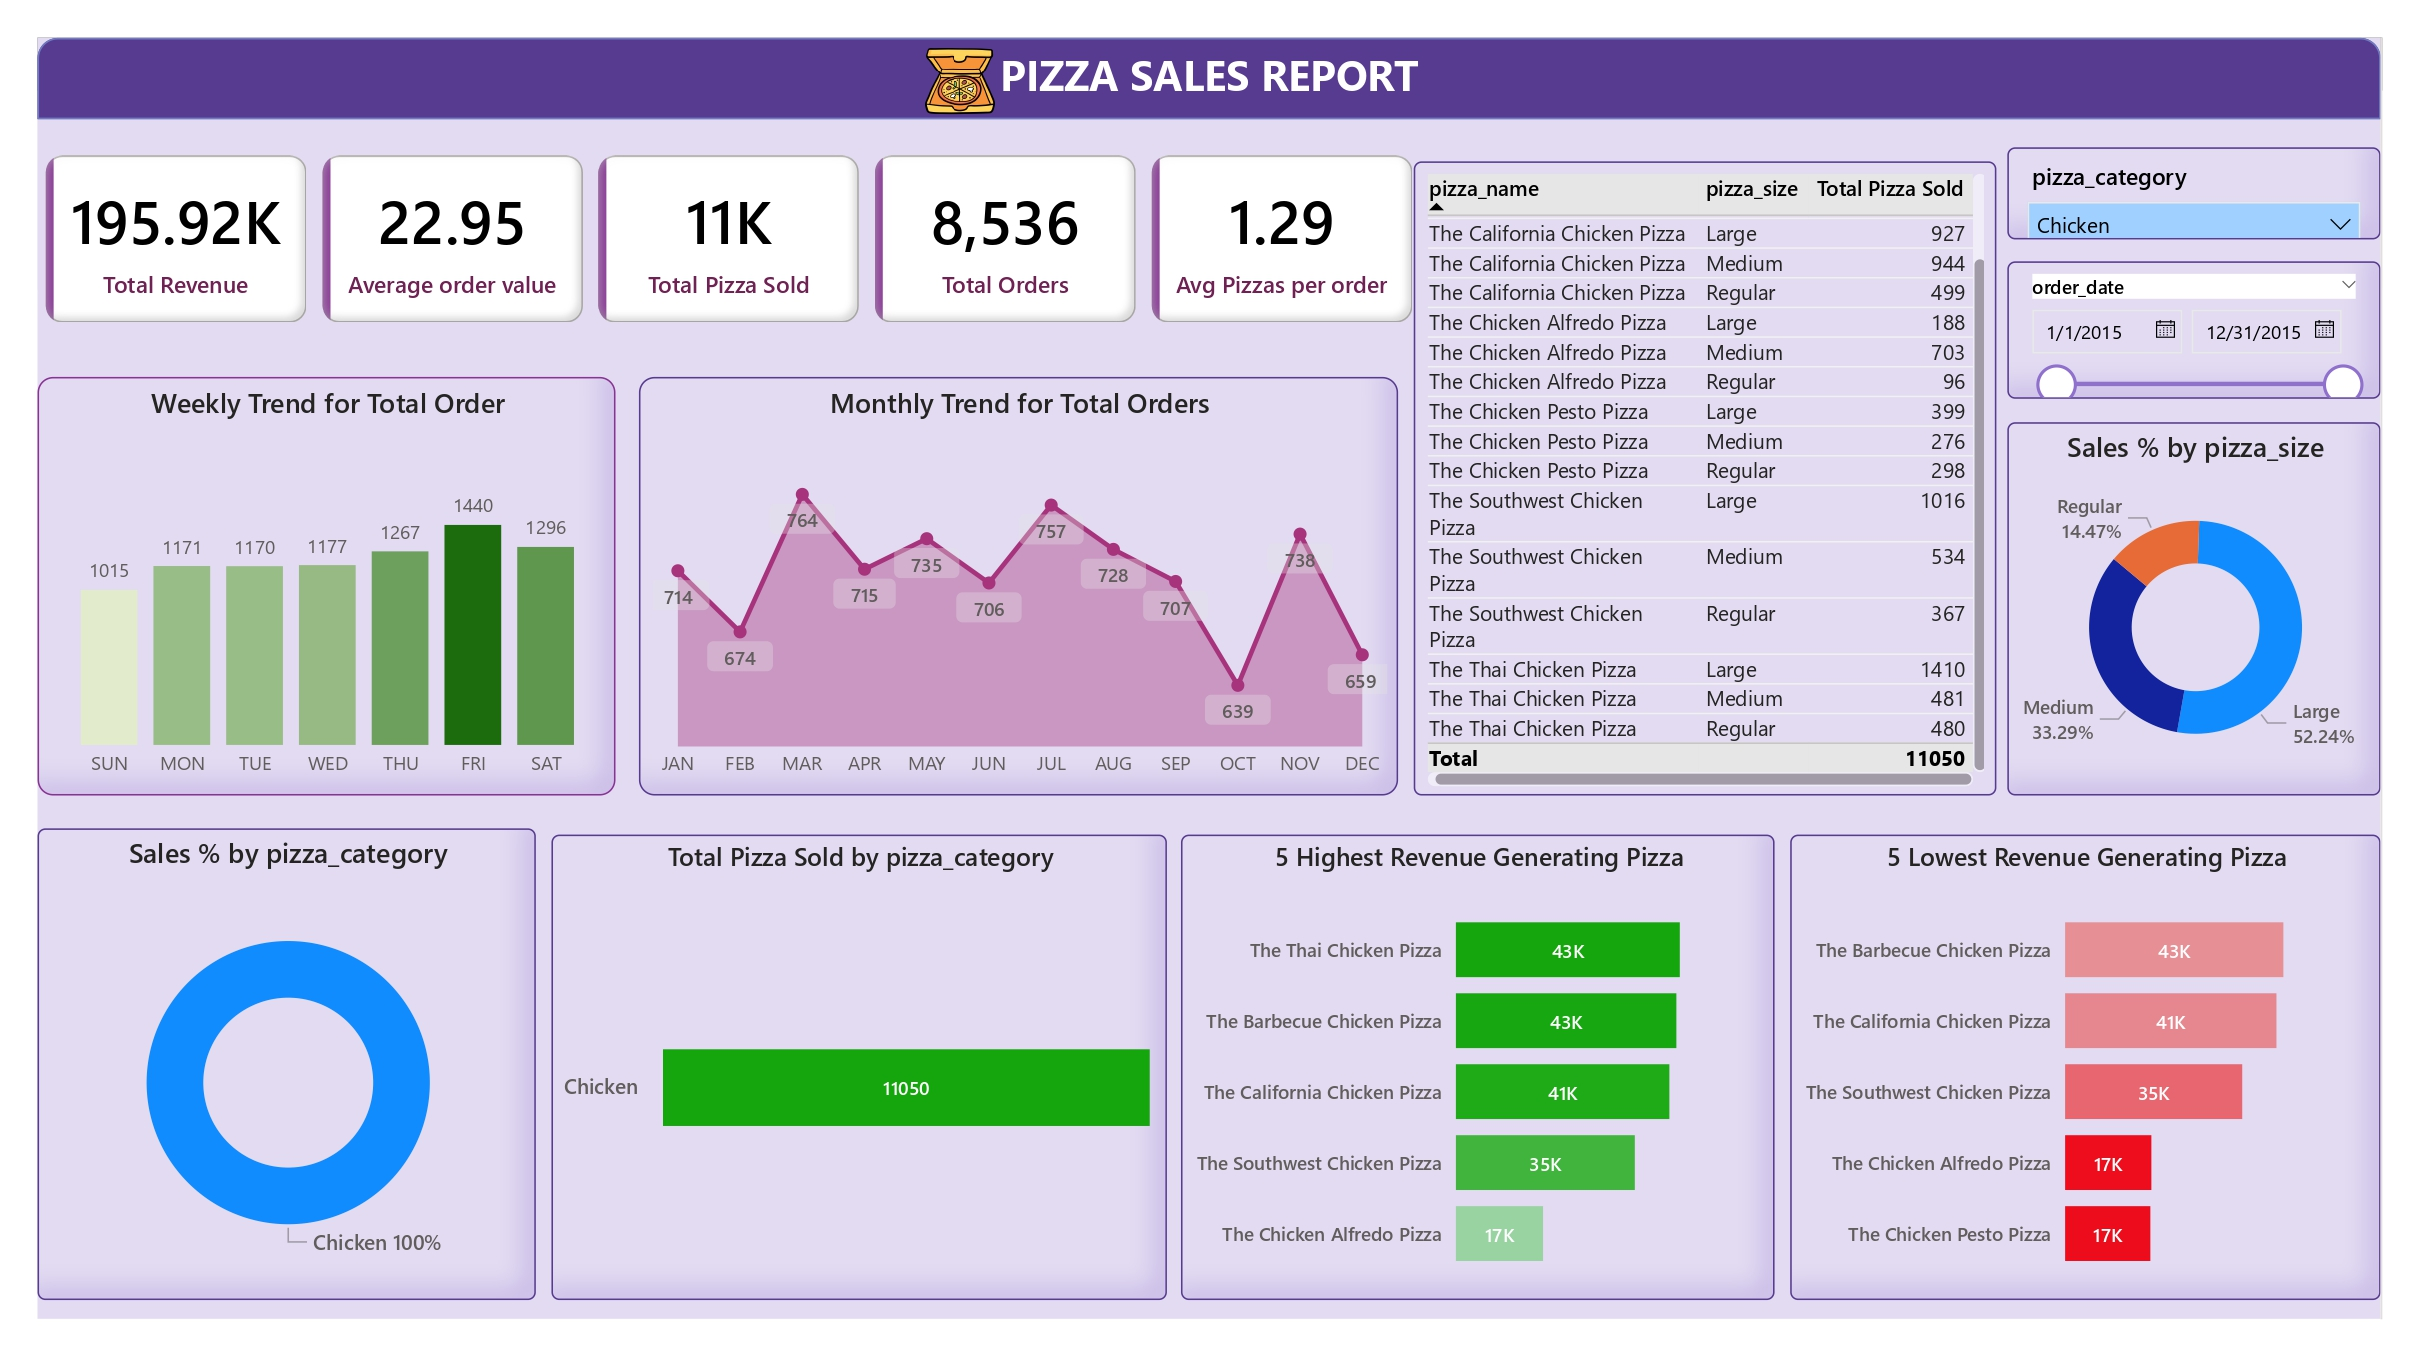

The dashboard page shown, as its layout file describes it:
{"tool":"powerbi","page":{"name":"Page 1","canvas":[1500,820],"ordinal":0},"visuals":[{"type":"cardVisual","fields":{"Data":["pizza_sales.Total Revenue","pizza_sales.Average order value","pizza_sales.Total Pizza Sold","pizza_sales.Total Orders","pizza_sales.Avg Pizzas per order"]},"box":[0,70,888,117],"z":0},{"type":"shape","box":[0,0,1500,52],"z":1000},{"type":"textbox","box":[0,0,1500,48],"z":2000},{"type":"columnChart","title":"Weekly Trend for Total Order","fields":{"Category":["pizza_sales.Order Day"],"Y":["pizza_sales.Total Orders"]},"box":[0,217,370,268],"z":3000},{"type":"stackedAreaChart","title":"Monthly Trend for Total Orders ","fields":{"Category":["pizza_sales.Order Month"],"Y":["pizza_sales.Total Orders"]},"box":[385,217,486,268],"z":4000},{"type":"donutChart","title":"Sales % by pizza_category","fields":{"Category":["pizza_sales.pizza_category"],"Y":["pizza_sales.Total Revenue"]},"box":[0,506,319,302],"z":4001},{"type":"donutChart","title":"Sales % by pizza_size","fields":{"Y":["pizza_sales.Total Revenue"],"Category":["pizza_sales.pizza_size"]},"box":[1261,246,239,239],"z":4002},{"type":"funnel","fields":{"Category":["pizza_sales.pizza_category"],"Y":["pizza_sales.Total Pizza Sold"]},"box":[329,510,394,298],"z":4003},{"type":"tableEx","fields":{"Values":["pizza_sales.pizza_name","pizza_sales.pizza_size","pizza_sales.Total Pizza Sold"]},"box":[881,79,373,406],"z":4004},{"type":"slicer","fields":{"Values":["pizza_sales.pizza_category"]},"box":[1261,70,239,59],"z":4005},{"type":"slicer","fields":{"Values":["pizza_sales.order_date"]},"box":[1261,143,239,88],"z":4007},{"type":"barChart","title":"5 Highest Revenue Generating Pizza","fields":{"Category":["pizza_sales.pizza_name"],"Y":["pizza_sales.Total Revenue"]},"box":[732,510,380,298],"z":4008},{"type":"barChart","title":"5 Lowest Revenue Generating Pizza","fields":{"Category":["pizza_sales.pizza_name"],"Y":["pizza_sales.Total Revenue"]},"box":[1122,510,378,298],"z":4009},{"type":"image","box":[552,0,76,55],"z":4010}]}

Visuals, with their boxes on the page's 1500x820 design canvas (x1, y1, x2, y2). These are canvas units, not pixel positions in the 2420x1357 screenshot, which may show the page scaled, cropped or inside an application window:
cardVisual - pizza_sales.Total Revenue x pizza_sales.Average order value: x1=0, y1=70, x2=888, y2=187
shape: x1=0, y1=0, x2=1500, y2=52
textbox: x1=0, y1=0, x2=1500, y2=48
"Weekly Trend for Total Order" columnChart: x1=0, y1=217, x2=370, y2=485
"Monthly Trend for Total Orders " stackedAreaChart: x1=385, y1=217, x2=871, y2=485
"Sales % by pizza_category" donutChart: x1=0, y1=506, x2=319, y2=808
"Sales % by pizza_size" donutChart: x1=1261, y1=246, x2=1500, y2=485
funnel - pizza_sales.pizza_category x pizza_sales.Total Pizza Sold: x1=329, y1=510, x2=723, y2=808
tableEx - pizza_sales.pizza_name x pizza_sales.pizza_size: x1=881, y1=79, x2=1254, y2=485
slicer - pizza_sales.pizza_category: x1=1261, y1=70, x2=1500, y2=129
slicer - pizza_sales.order_date: x1=1261, y1=143, x2=1500, y2=231
"5 Highest Revenue Generating Pizza" barChart: x1=732, y1=510, x2=1112, y2=808
"5 Lowest Revenue Generating Pizza" barChart: x1=1122, y1=510, x2=1500, y2=808
image: x1=552, y1=0, x2=628, y2=55
